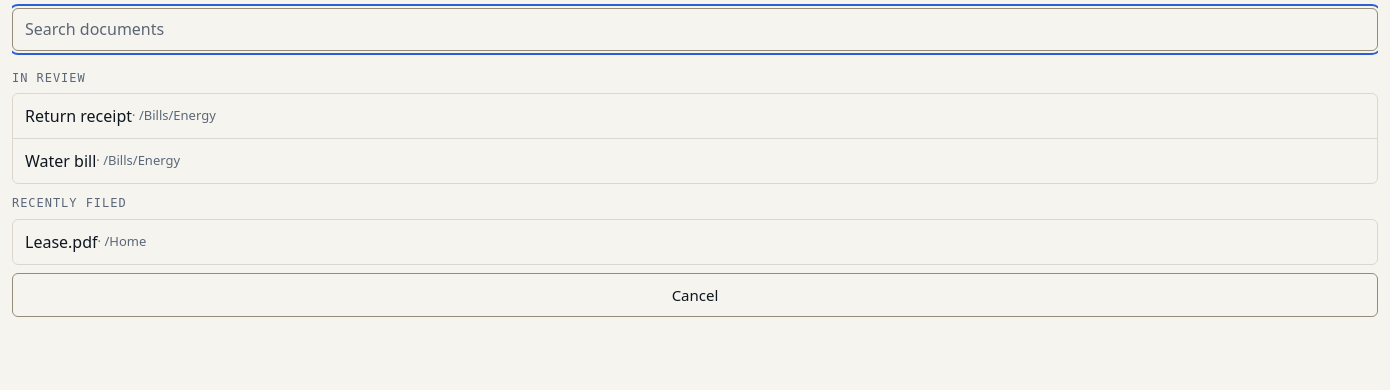
Scenario: DocumentChooser: file with › explains an anchor that can’t be used
The width and height of the screenshot is (1390, 390).
Click the button "Lease.pdf · /Home". click: (61,242)
box: [13,220,1377,264]
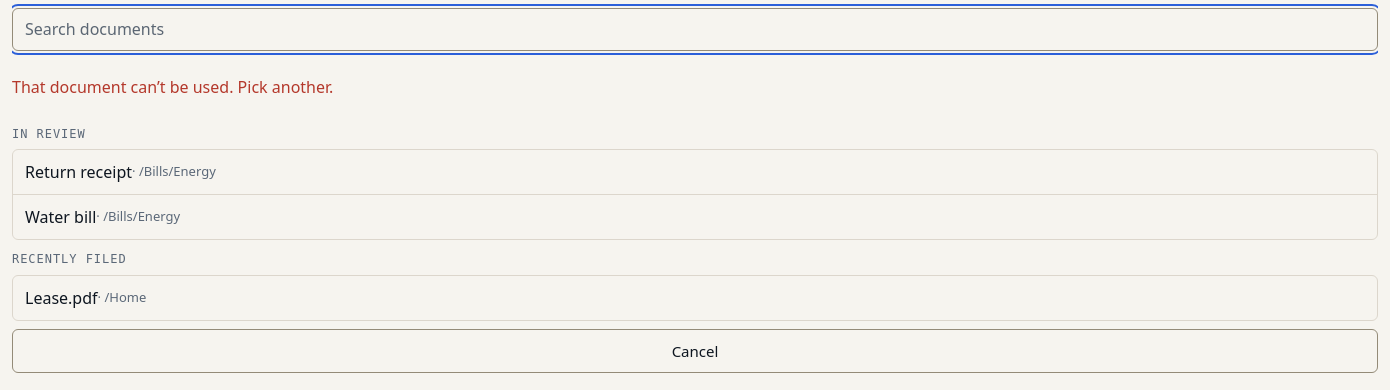
Expected: the message reads "That document can’t be used. Pick another.", [12,76,333,98]
